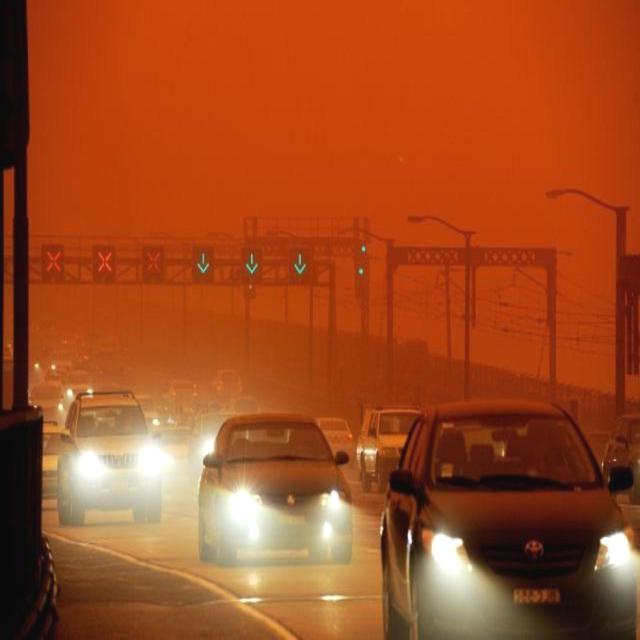Car: (377, 404, 638, 640), (198, 409, 352, 565), (57, 390, 163, 528), (357, 405, 426, 492), (601, 415, 640, 503), (148, 426, 194, 485)
